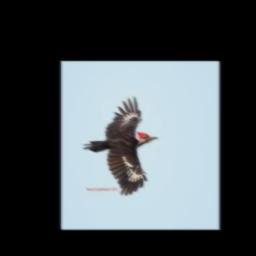Woodpecker: (82, 95, 157, 195)
